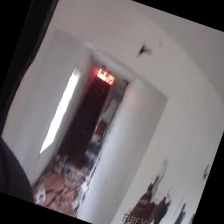fire: (87, 60, 122, 93)
